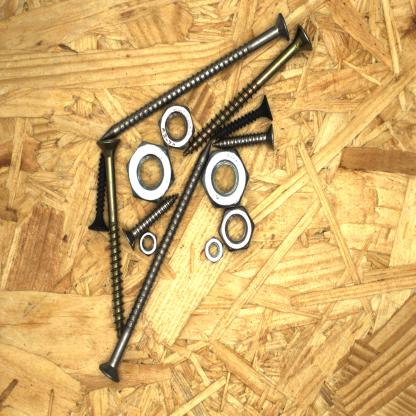screw: (97, 137, 215, 384), (96, 8, 296, 145), (181, 20, 317, 161), (92, 134, 126, 342), (119, 190, 182, 254), (210, 90, 274, 144), (85, 147, 113, 236), (211, 119, 278, 156)
